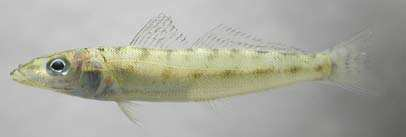kiss: (13, 13, 378, 126)
